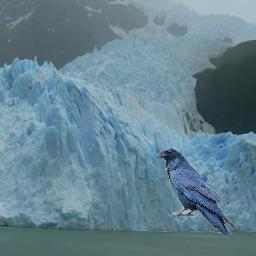Crow: (154, 147, 235, 235)
